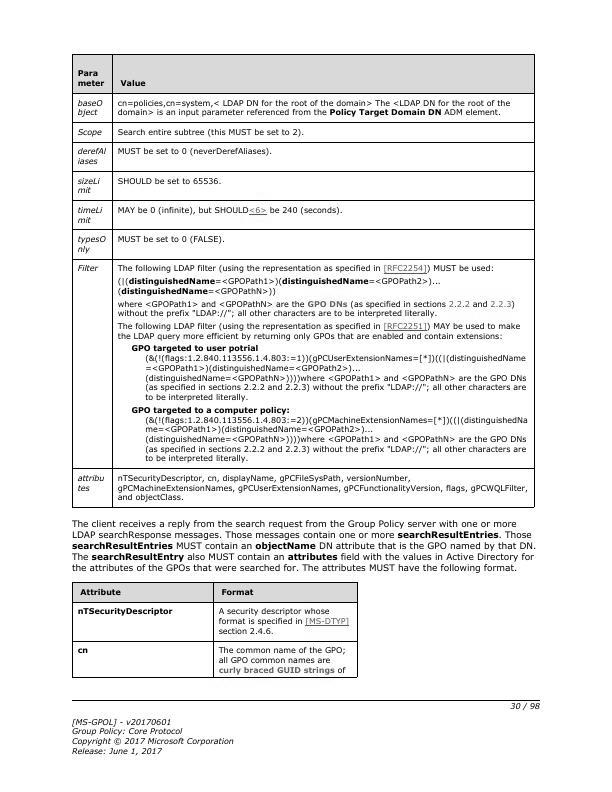table: (72, 53, 536, 509), (73, 581, 359, 679), (69, 712, 237, 757)
text: (69, 517, 537, 575)
